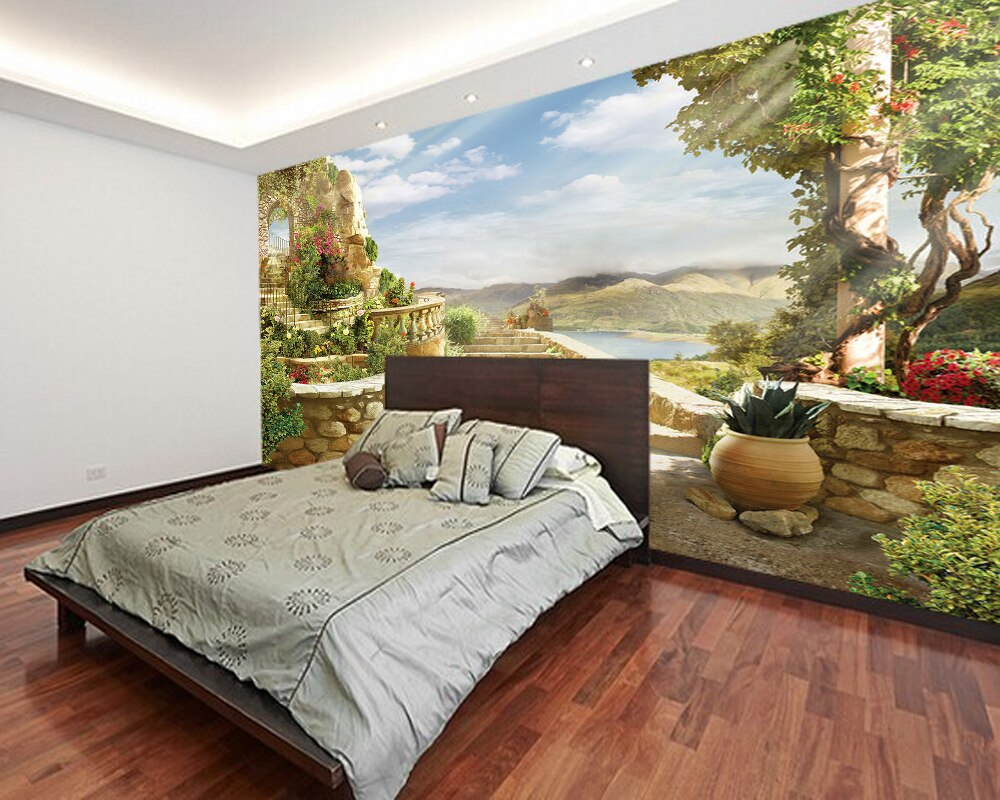tanaman: (709, 383, 823, 517), (886, 477, 1000, 611)
